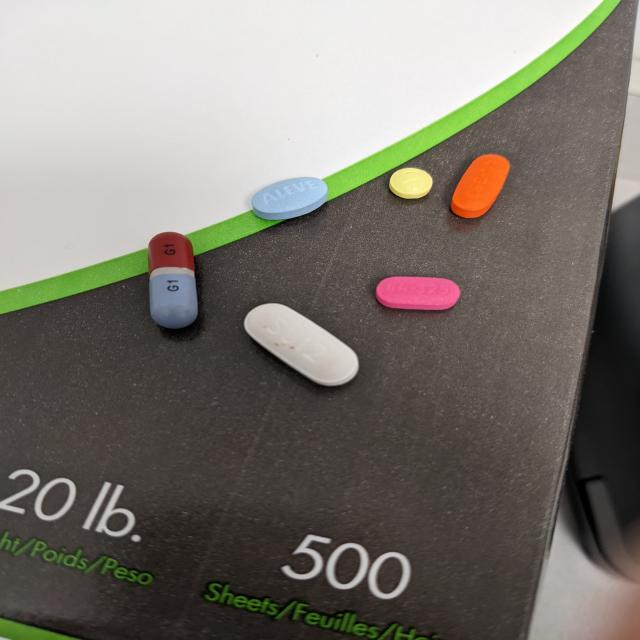non-organic waste: (242, 302, 360, 387), (146, 231, 199, 330), (448, 153, 511, 218), (250, 176, 330, 220), (373, 275, 461, 312), (386, 167, 434, 199)
